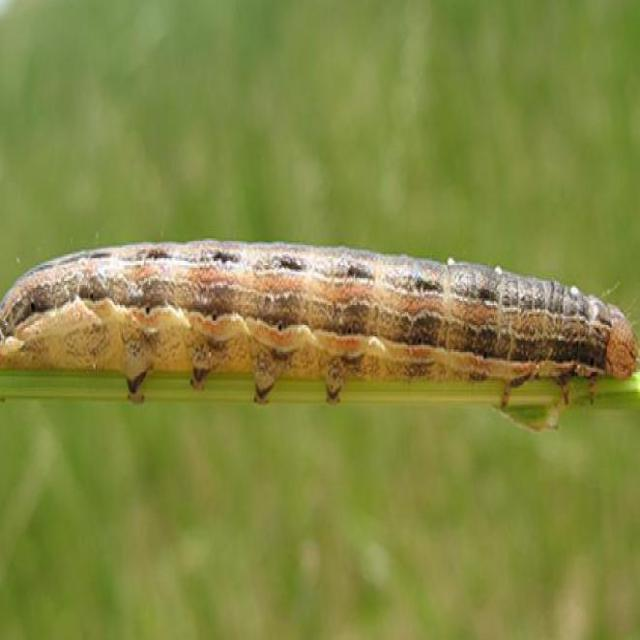armyworm: (1, 218, 640, 446)
